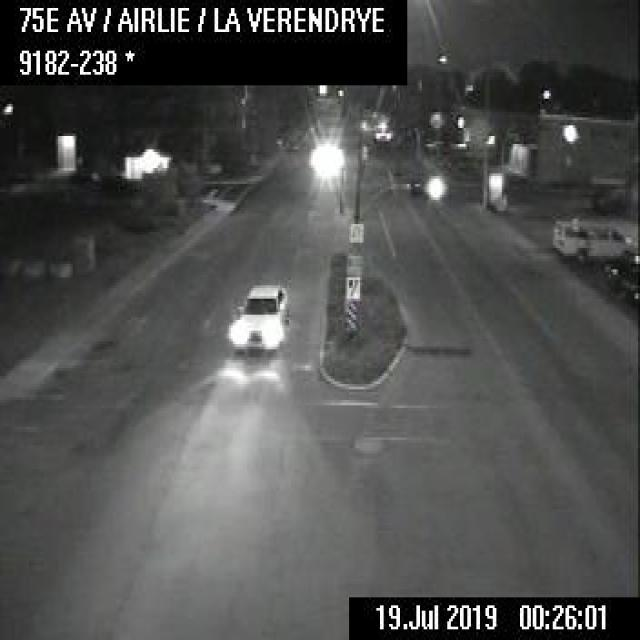vehicle: (550, 211, 638, 264), (229, 278, 289, 350), (605, 248, 638, 288), (371, 117, 393, 144)
